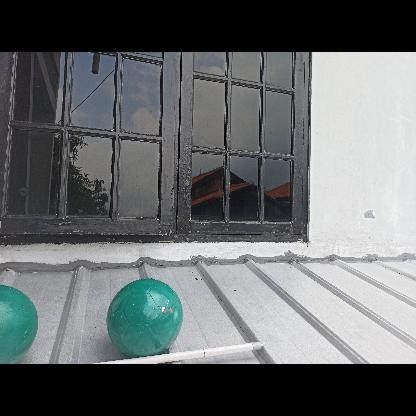green_ball: (107, 278, 185, 356)
